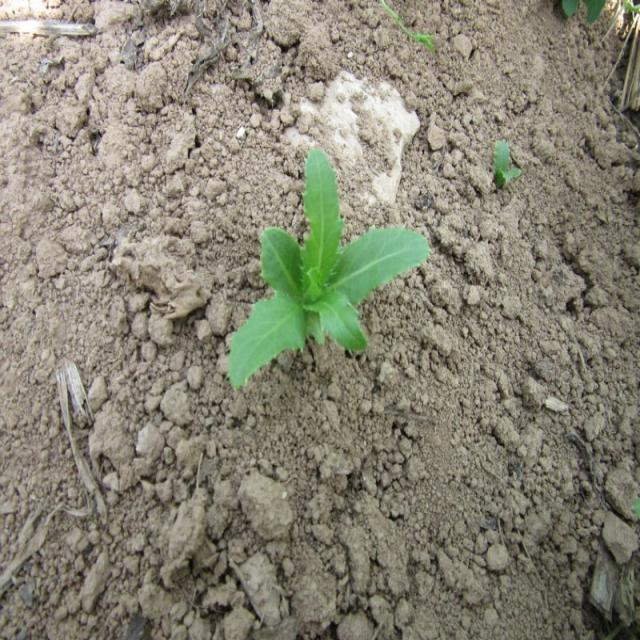field_thistle: (192, 134, 426, 408)
